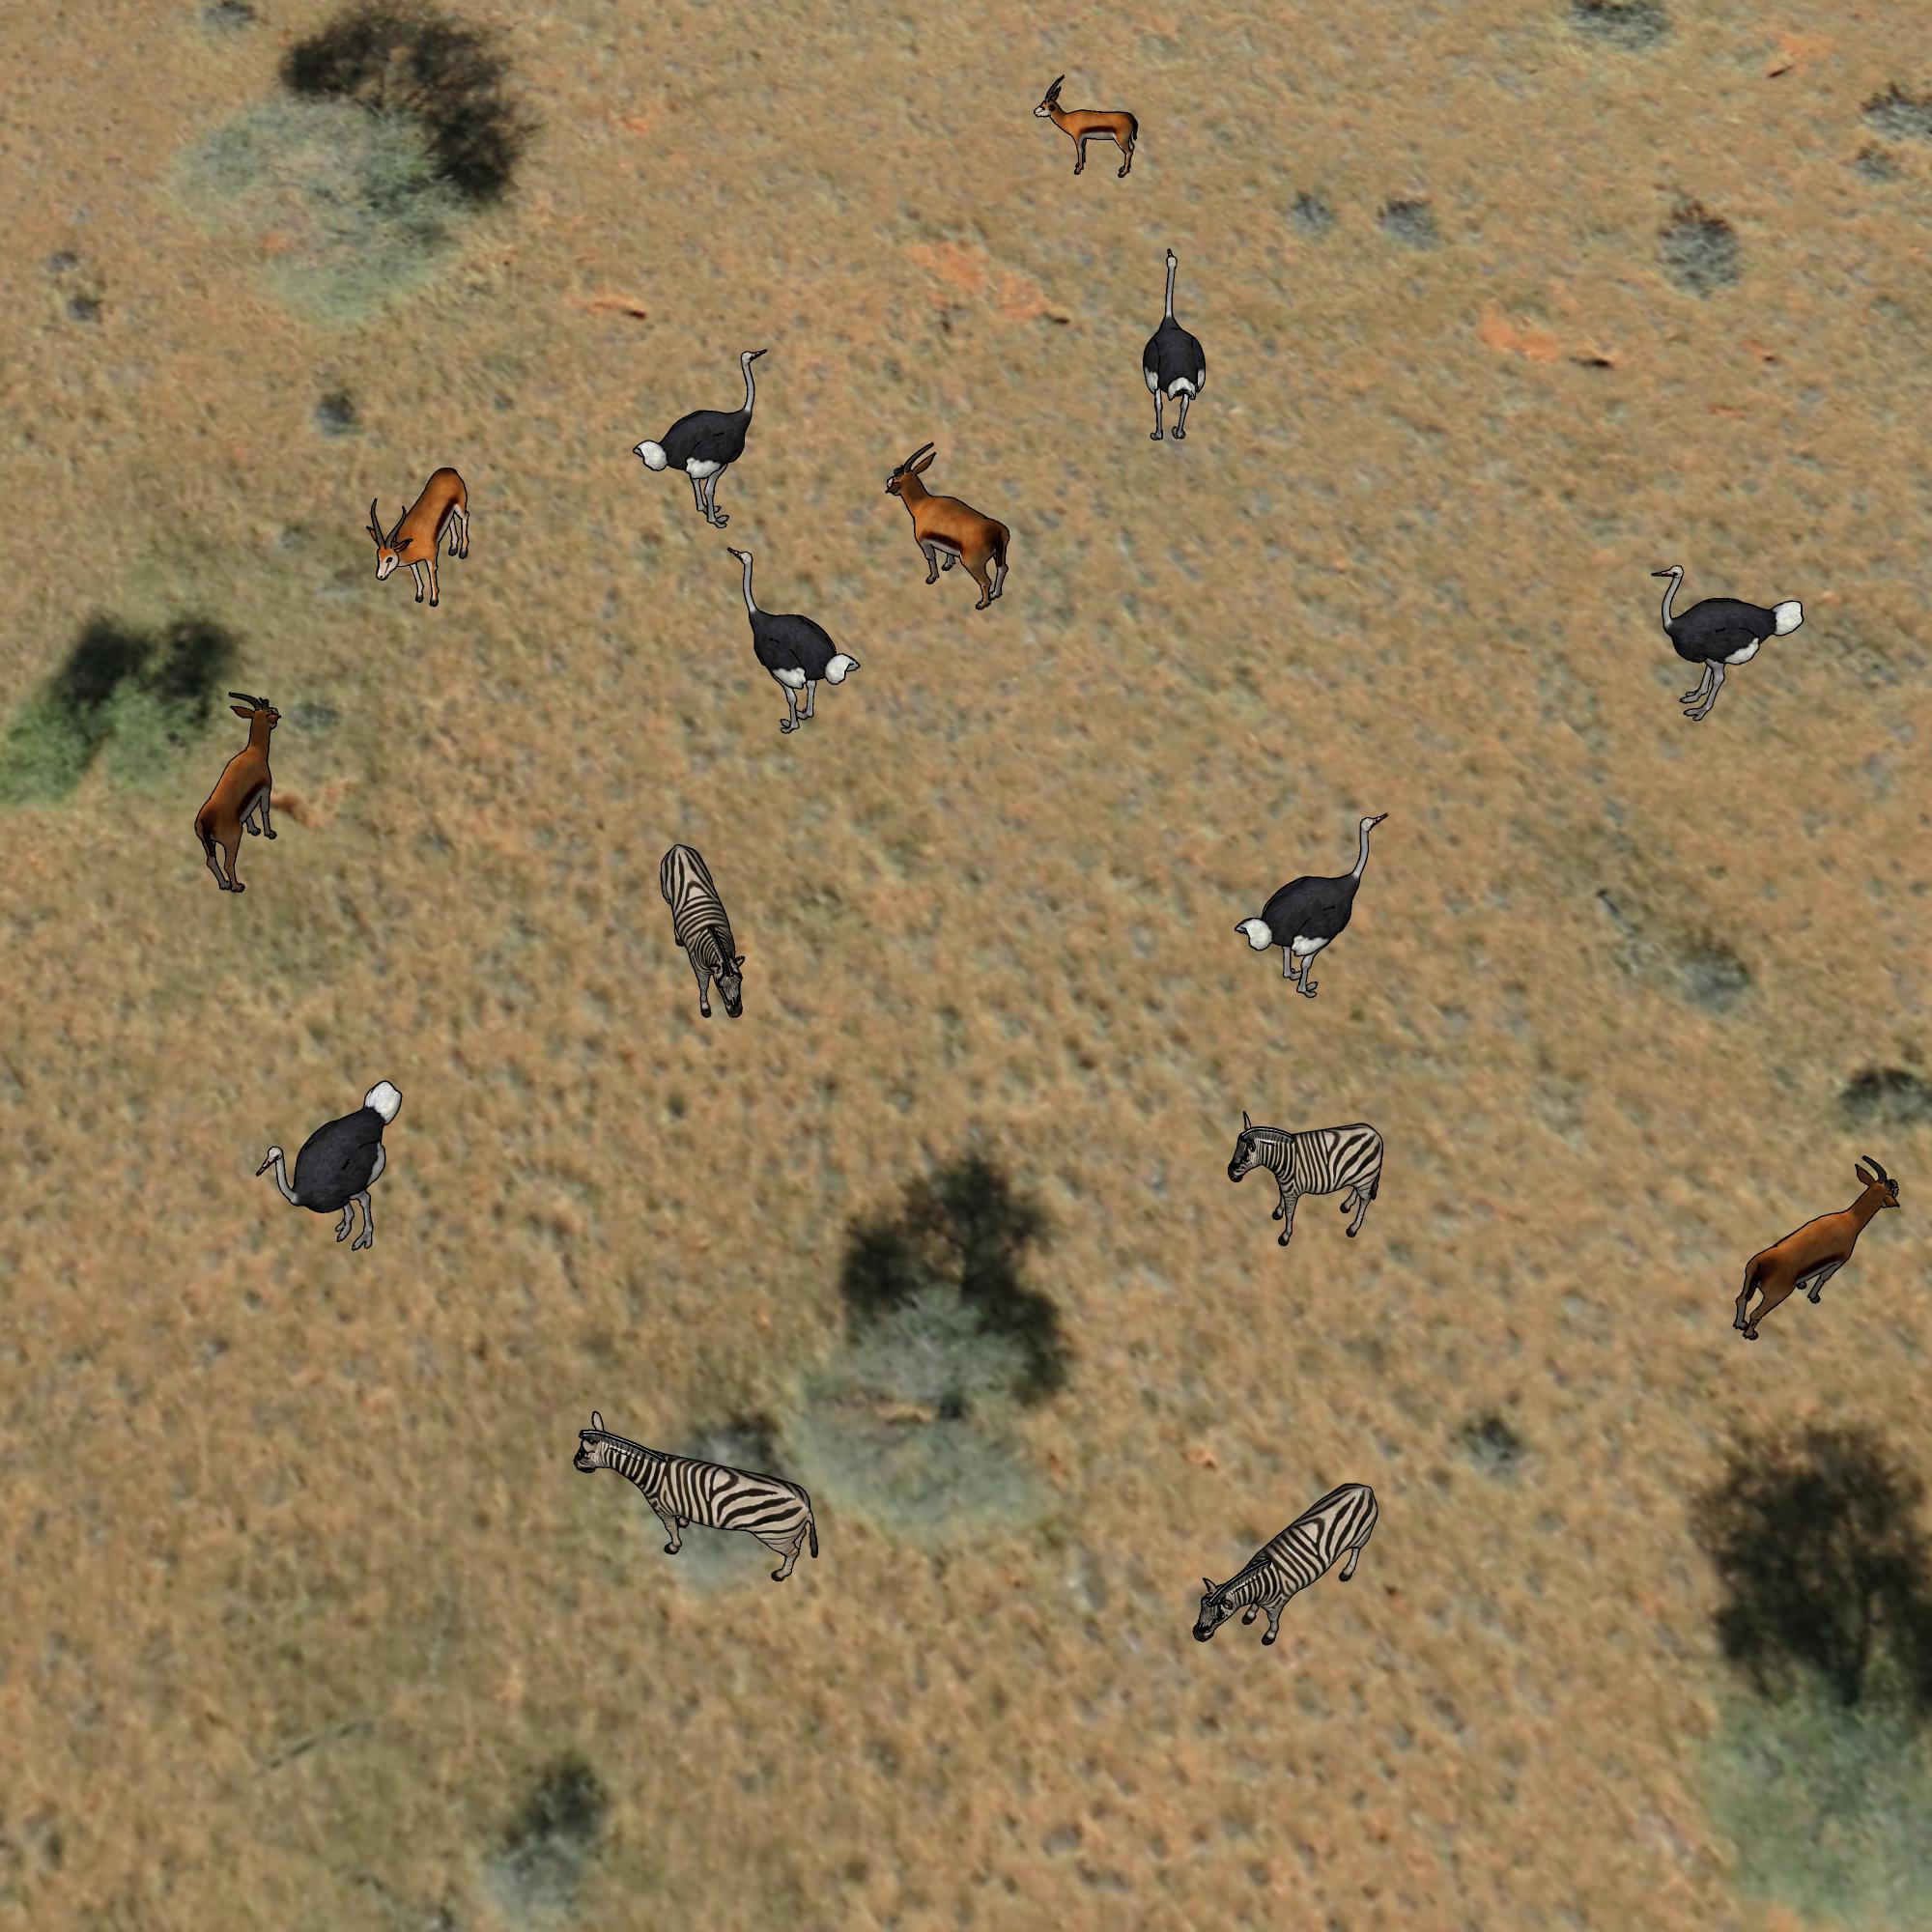ostrich: (1231, 811, 1391, 1005), (252, 1081, 412, 1257), (723, 540, 865, 733), (1648, 550, 1808, 723), (637, 344, 766, 532), (1132, 240, 1221, 451)
springbok: (1727, 1148, 1907, 1341), (880, 436, 1015, 616), (196, 682, 288, 894), (361, 456, 481, 618), (1036, 67, 1148, 184)
zebra: (565, 1405, 830, 1592), (1190, 1470, 1381, 1654), (1226, 1107, 1391, 1257), (651, 830, 758, 1036)
